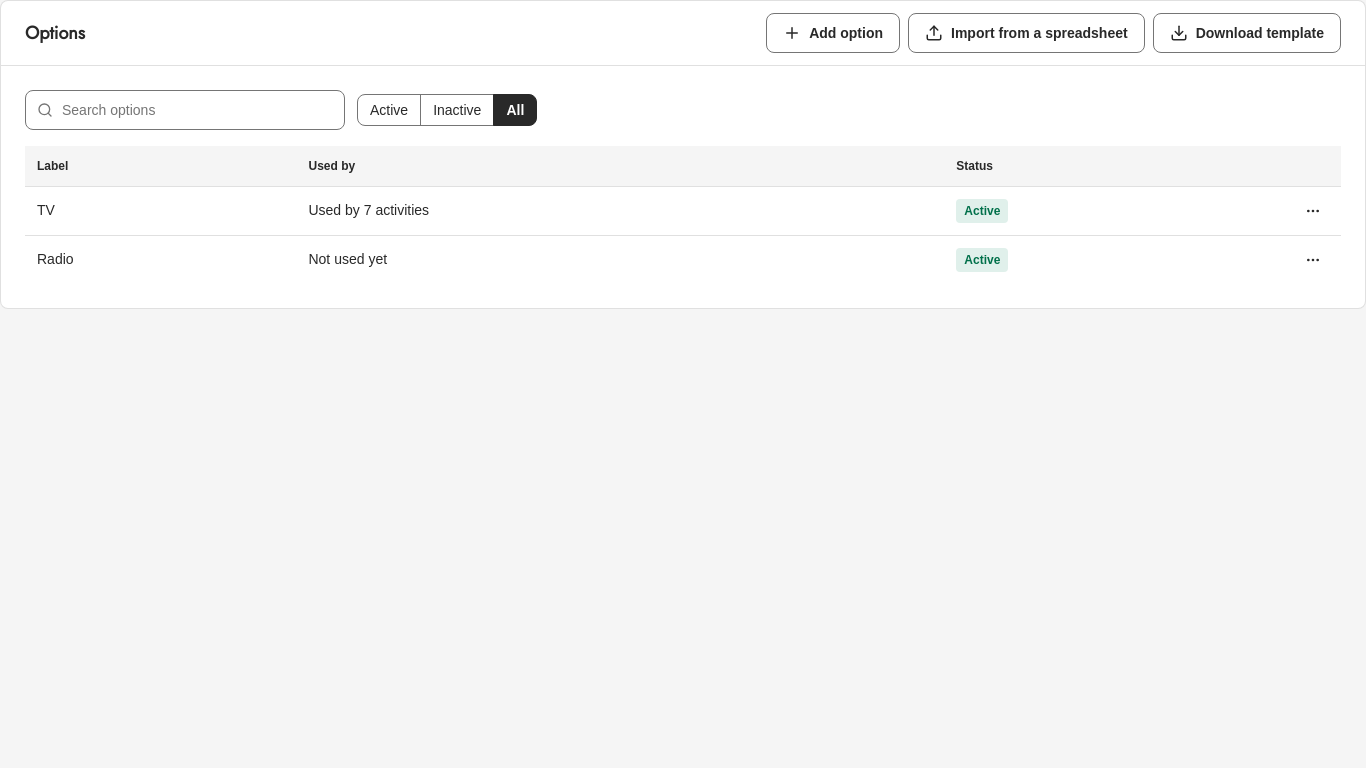
Test case: OptionsCard (FR-018, FR-020, SC-007) › offers Set inactive instead of deleting an option in use (FR-004)
Click the button named "Actions for TV" at {"x": 1313, "y": 210}, box [1297, 194, 1329, 226]
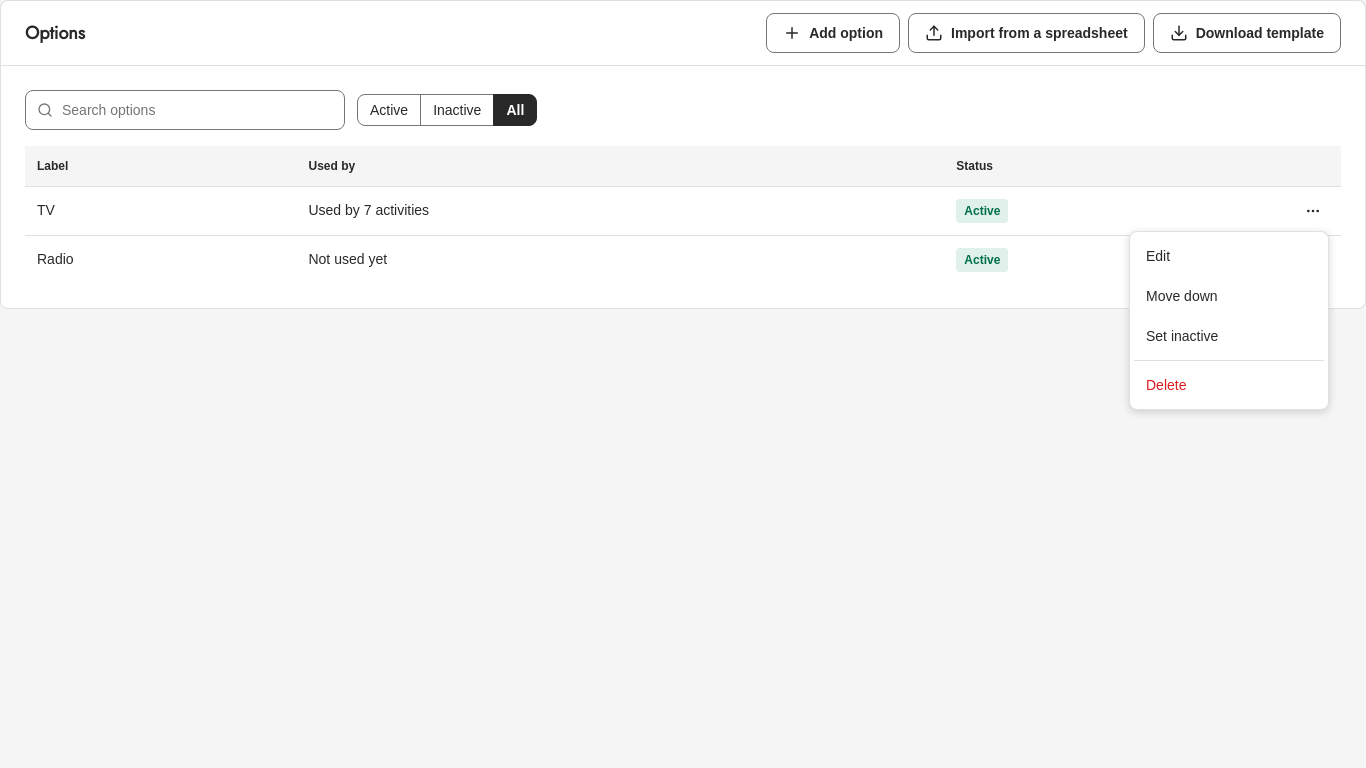
Click the menu item "Delete" at {"x": 1166, "y": 385}, box [1146, 377, 1186, 393]
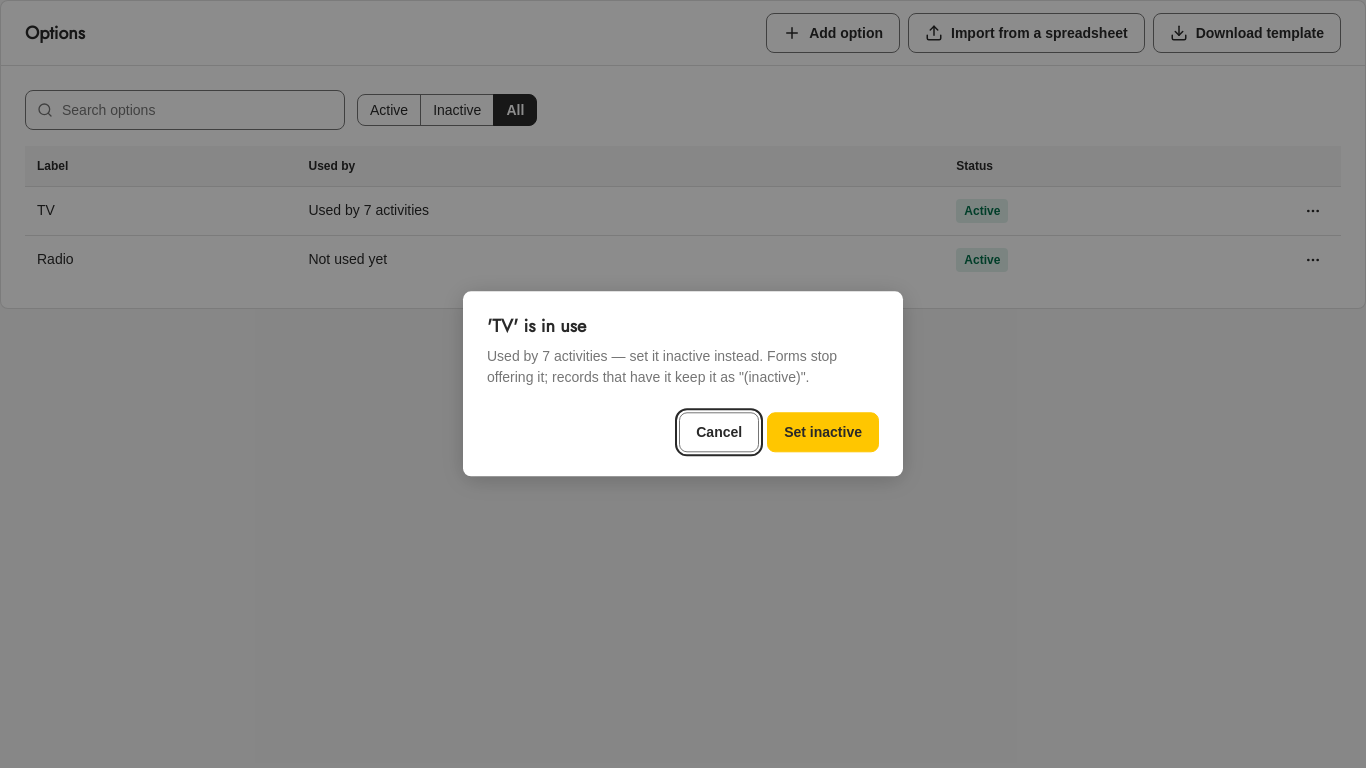
Result: the dialog "'TV' is in use" shows "Used by 7 activities — set it inactive instead." at [487, 349, 837, 386]
Result: the dialog "'TV' is in use" shows "Forms stop offering it; records that have it keep it as \"(inactive)\"." at [487, 349, 837, 386]
